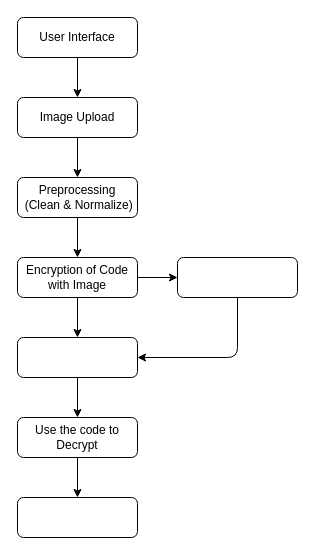
Image size: 315x555. Some labels were removed from this diagram. The shapes that lost their labels are listed below. From the top down, each one's centre as x and y in pixels, then its label:
pixel 237 277: Database storage
pixel 77 357: Encrypted image recieved
pixel 77 517: User
